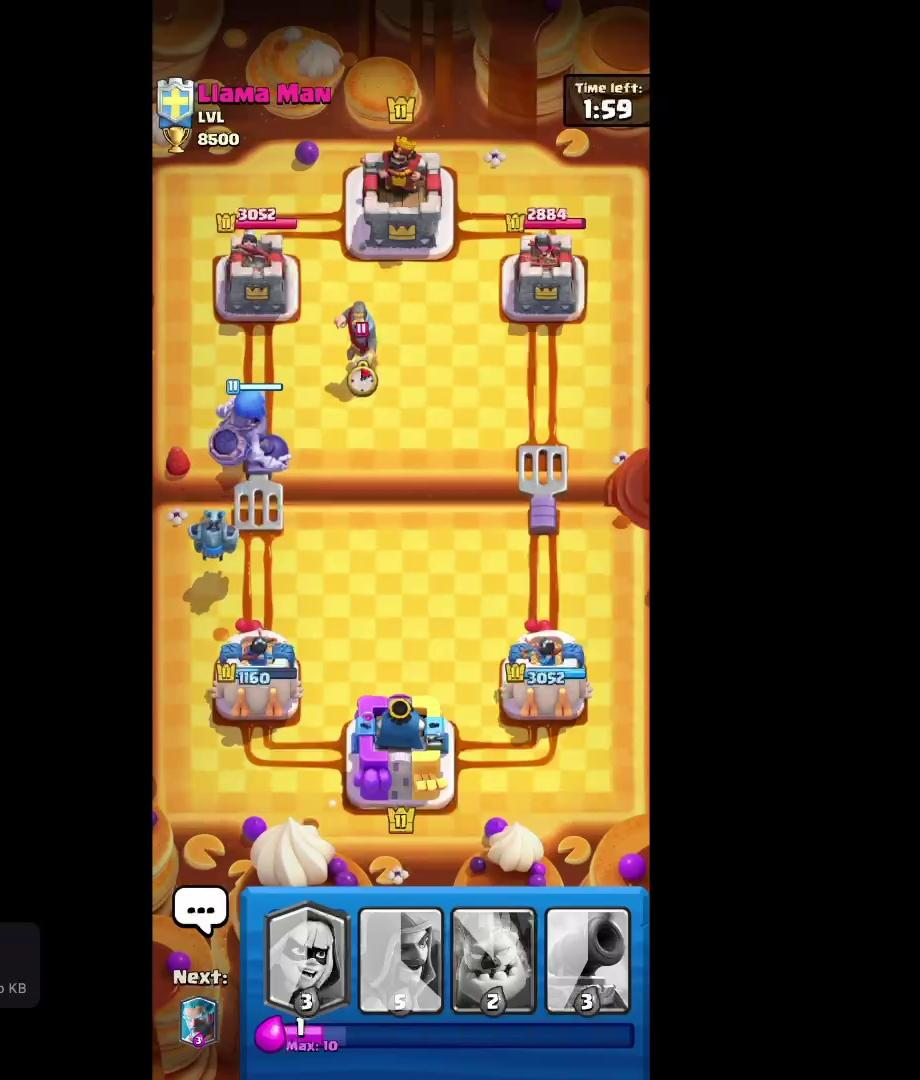Knight: (329, 298, 391, 398)
